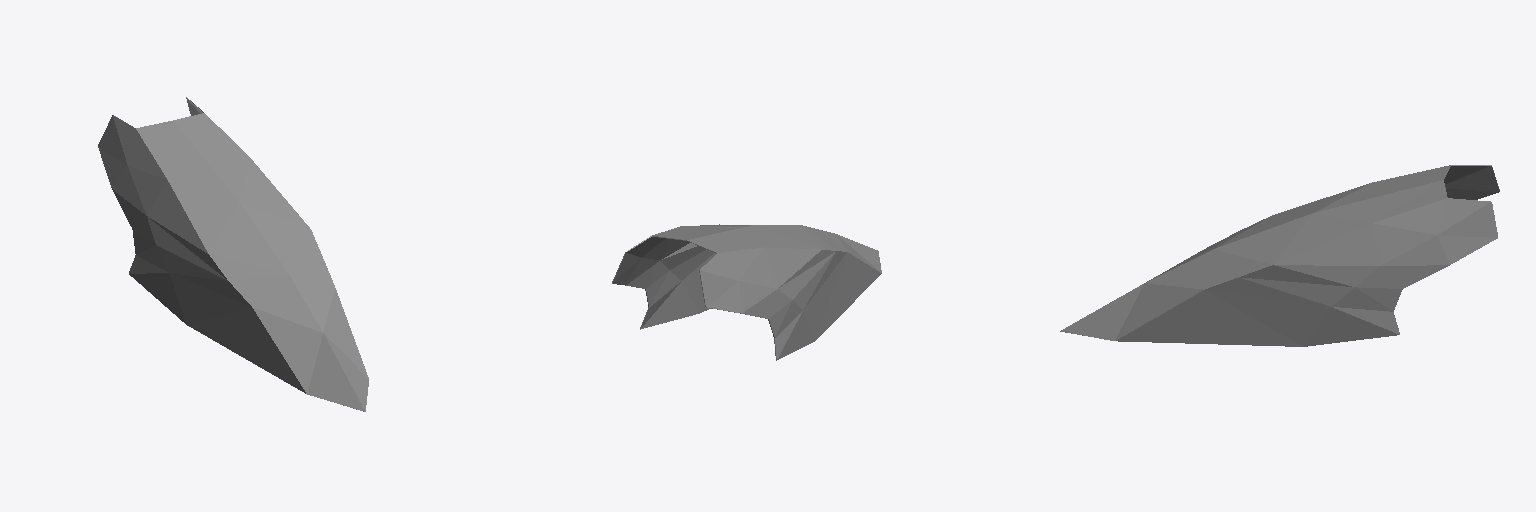
Rendered from cristal.obj.
3 renders of one model, left to right at view 1: azimuth 30°, elevation 25°; view 2: azimuth 150°, elevation 25°; view 3: azimuth 270°, elevation 25°, orthographic.
Visible parts, largest first — view 1: AM_04_LP_Mesh.001; view 2: AM_04_LP_Mesh.001; view 3: AM_04_LP_Mesh.001.
Part boxes in pixels (bbox=[...]): AM_04_LP_Mesh.001: bbox=[98, 97, 368, 411]; AM_04_LP_Mesh.001: bbox=[612, 224, 881, 360]; AM_04_LP_Mesh.001: bbox=[1060, 165, 1499, 346].
Size of the model in its own units: 2.4 by 2.55 by 6.71.